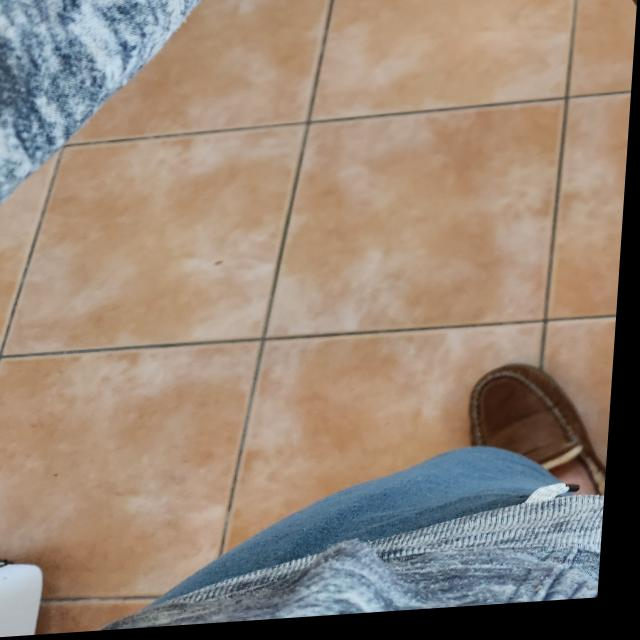soy sauce: (483, 0, 640, 68)
